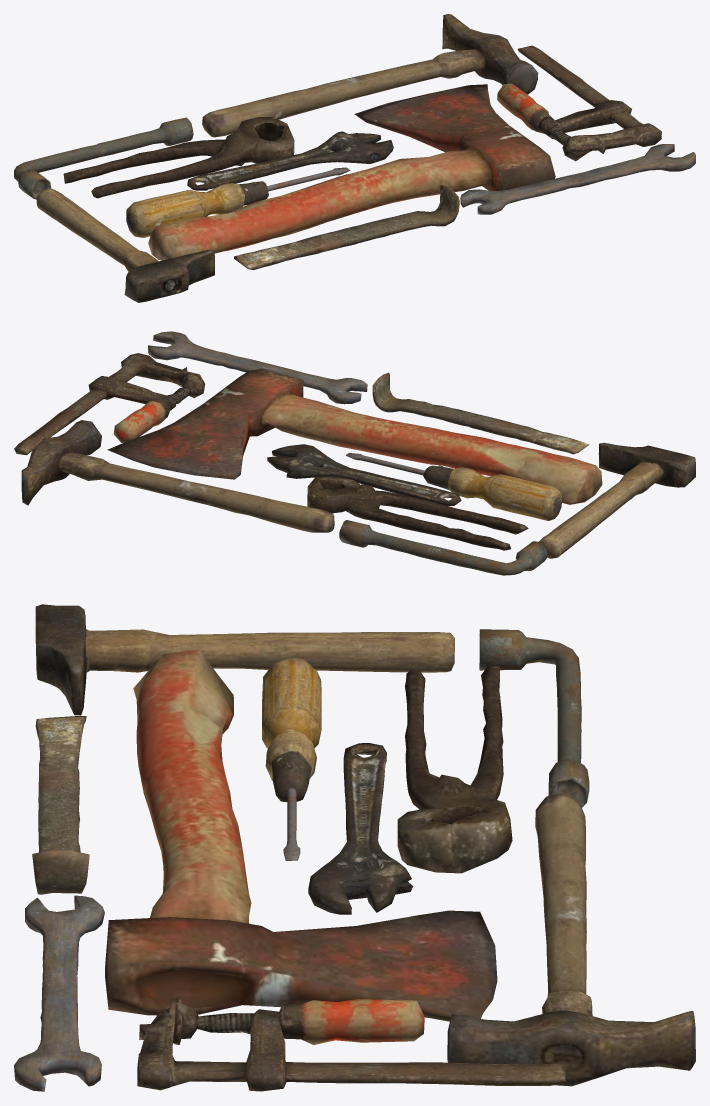
Rendered from hand-tools.glb.
3 renders of one model, top to bottom at view 1: azimuth 30°, elevation 25°; view 2: azimuth 150°, elevation 25°; view 3: azimuth 270°, elevation 25°, orthographic. The views are drawn at different scales.
Visible parts, largest first — view 1: hatchet_lod3, hammer2_lod3, clamp_lod3, pliers_lod3, hammer1_lod3, screwdriver_lod3, prybar_lod3, wrench_lod3, adjustable_wrench_lod3, socket_wrench_lod3; view 2: hatchet_lod3, hammer2_lod3, clamp_lod3, pliers_lod3, hammer1_lod3, screwdriver_lod3, prybar_lod3, wrench_lod3, adjustable_wrench_lod3, socket_wrench_lod3; view 3: hatchet_lod3, hammer2_lod3, clamp_lod3, hammer1_lod3, pliers_lod3, wrench_lod3, adjustable_wrench_lod3, prybar_lod3, screwdriver_lod3, socket_wrench_lod3.
Part boxes in pixels (x1,y1,x2,y2): hatchet_lod3: (148, 84, 555, 260); hammer2_lod3: (202, 14, 538, 137); clamp_lod3: (497, 45, 661, 161); pliers_lod3: (63, 117, 294, 198); hammer1_lod3: (36, 188, 214, 302); screwdriver_lod3: (126, 167, 350, 237); prybar_lod3: (234, 185, 459, 270); wrench_lod3: (460, 144, 695, 214); adjustable_wrench_lod3: (187, 131, 393, 190); socket_wrench_lod3: (14, 117, 193, 199); hatchet_lod3: (107, 368, 602, 504); hammer2_lod3: (21, 420, 334, 532); clamp_lod3: (14, 353, 205, 455); pliers_lod3: (307, 476, 528, 550); hammer1_lod3: (539, 442, 695, 558); screwdriver_lod3: (346, 453, 562, 520); prybar_lod3: (372, 372, 589, 454); wrench_lod3: (148, 331, 367, 404); adjustable_wrench_lod3: (267, 444, 461, 505); socket_wrench_lod3: (339, 520, 547, 575); hatchet_lod3: (105, 649, 497, 1021); hammer2_lod3: (447, 793, 695, 1086); clamp_lod3: (137, 998, 566, 1091); hammer1_lod3: (35, 604, 454, 715); pliers_lod3: (397, 665, 512, 873); wrench_lod3: (14, 895, 104, 1091); adjustable_wrench_lod3: (308, 743, 412, 914); prybar_lod3: (32, 715, 89, 894); screwdriver_lod3: (262, 657, 321, 860); socket_wrench_lod3: (479, 629, 589, 807).
Size of the model in its own units: 6.37 by 0.4425 by 3.96.
Materials: 10 (10 with a texture image).
